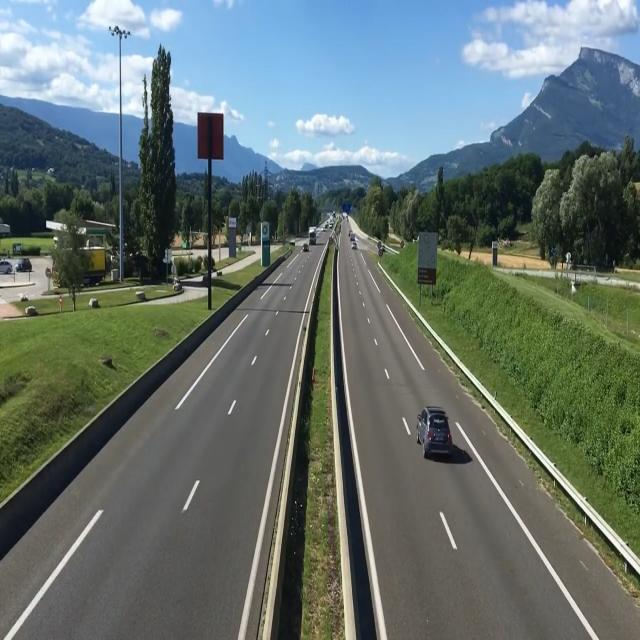car: (418, 401, 456, 470)
